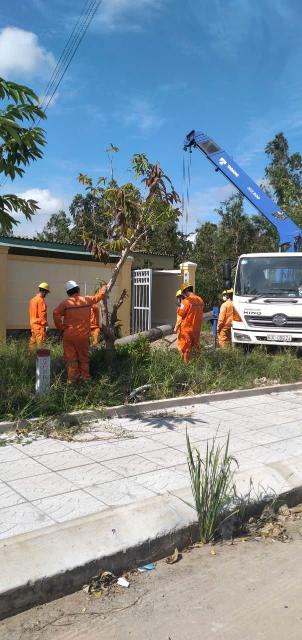gloves: (170, 326, 180, 335), (44, 324, 51, 331)
helmet: (37, 280, 51, 293), (62, 280, 79, 290), (225, 284, 235, 294), (179, 284, 193, 291), (174, 290, 183, 297)
